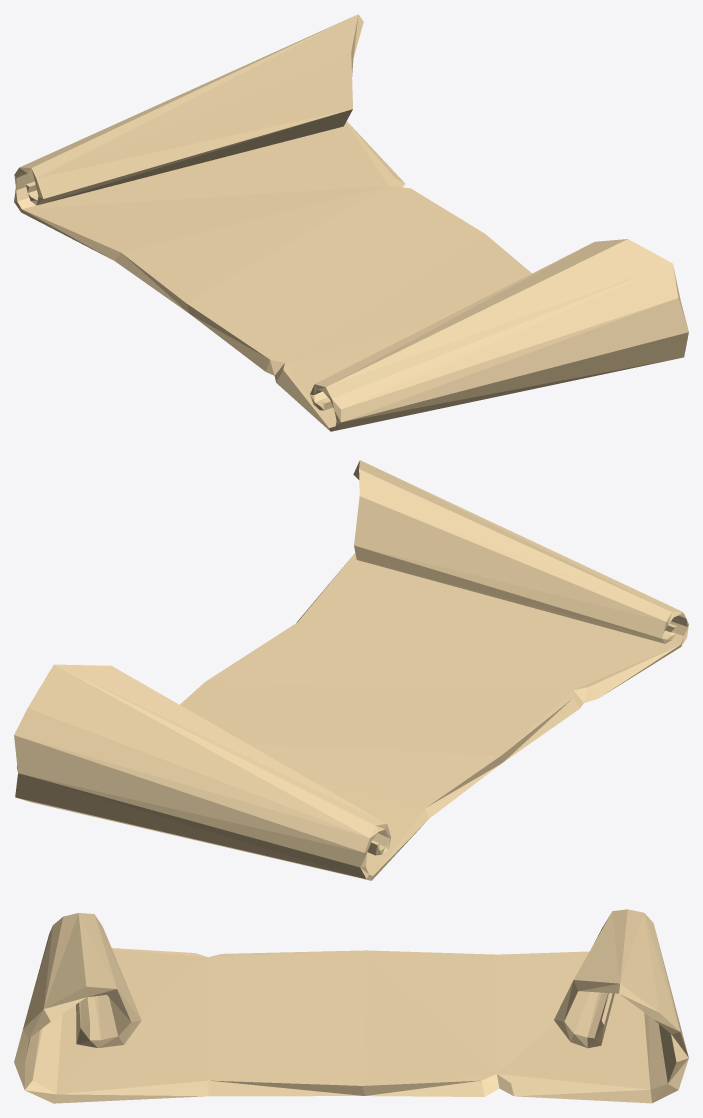
File: SFHW_Scroll_Opened.fbx
3 renders of one model, top to bottom at view 1: azimuth 30°, elevation 25°; view 2: azimuth 150°, elevation 25°; view 3: azimuth 270°, elevation 25°, orthographic. The views are drawn at different scales.
Parts seen in each view (by area): view 1: SFHW_Scroll_Opened; view 2: SFHW_Scroll_Opened; view 3: SFHW_Scroll_Opened.
Boxes of the visible parts, left/top/right/bottom form: SFHW_Scroll_Opened: left=14, top=14, right=688, bottom=431; SFHW_Scroll_Opened: left=14, top=460, right=688, bottom=880; SFHW_Scroll_Opened: left=14, top=909, right=688, bottom=1103.
Bounding box in the file's own units: 58.97 × 21.3 × 110.
